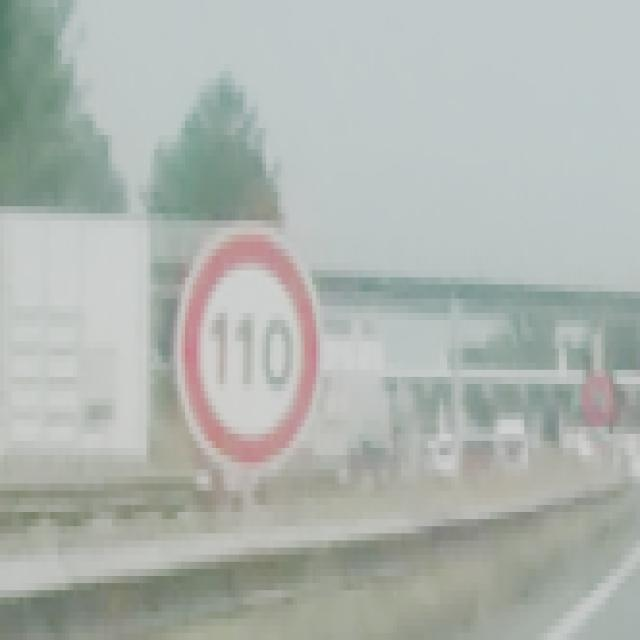speed_110: (175, 227, 322, 478)
